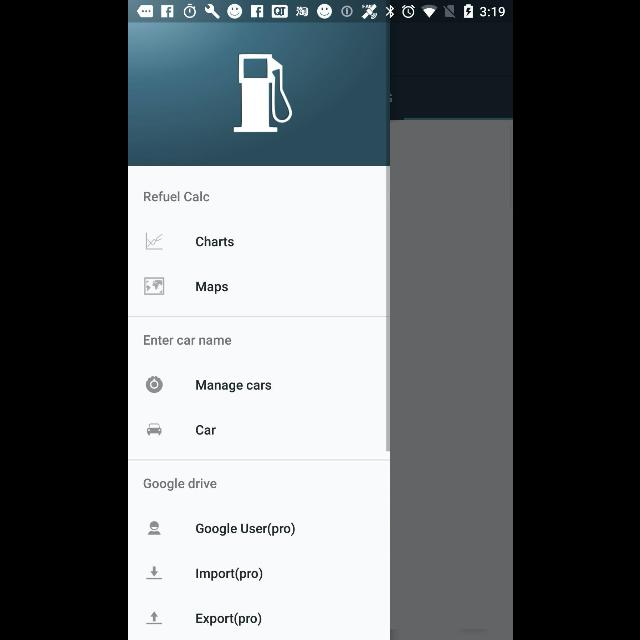icon: (144, 277, 164, 295), (146, 232, 162, 250), (146, 566, 162, 580), (146, 612, 162, 624), (148, 521, 160, 535)
image: (232, 54, 292, 132), (146, 376, 162, 394), (146, 424, 162, 436)
panel: (127, 23, 389, 639)
text: (196, 522, 294, 536), (142, 334, 232, 346), (142, 478, 216, 492), (195, 567, 262, 581), (195, 612, 261, 626), (195, 380, 271, 392), (143, 190, 209, 202), (195, 236, 233, 248), (195, 282, 228, 294), (194, 424, 216, 436)
uppertaskbar: (128, 1, 512, 23)
